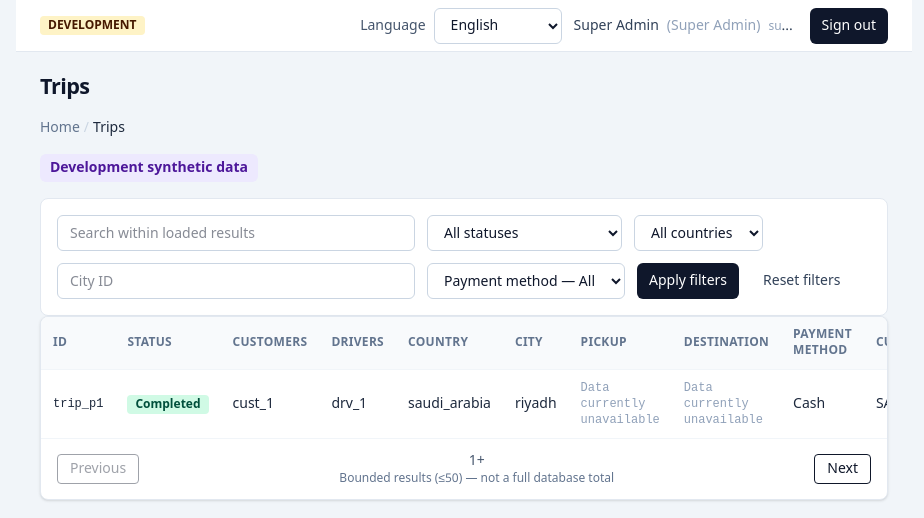
Test: trips pagination › paginates trips list
Expected: the element with test id "trips-table" is shown, [40,316,888,500]
Expected: the text with test id "trips-page" shows "1", [469,446,477,475]
Click the button with test id "trips-next": (843, 469) [814,454,871,484]
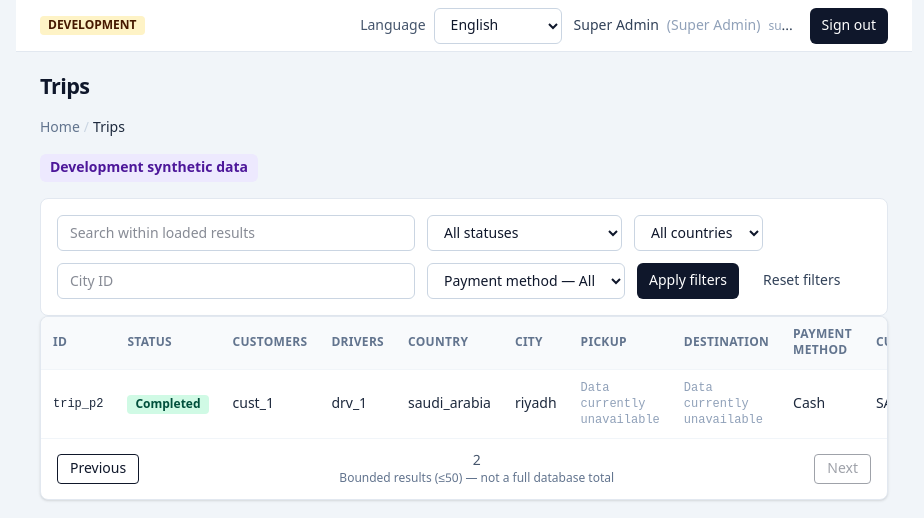
Now the text with test id "trips-page" reads "2", box [473,446,481,475]
